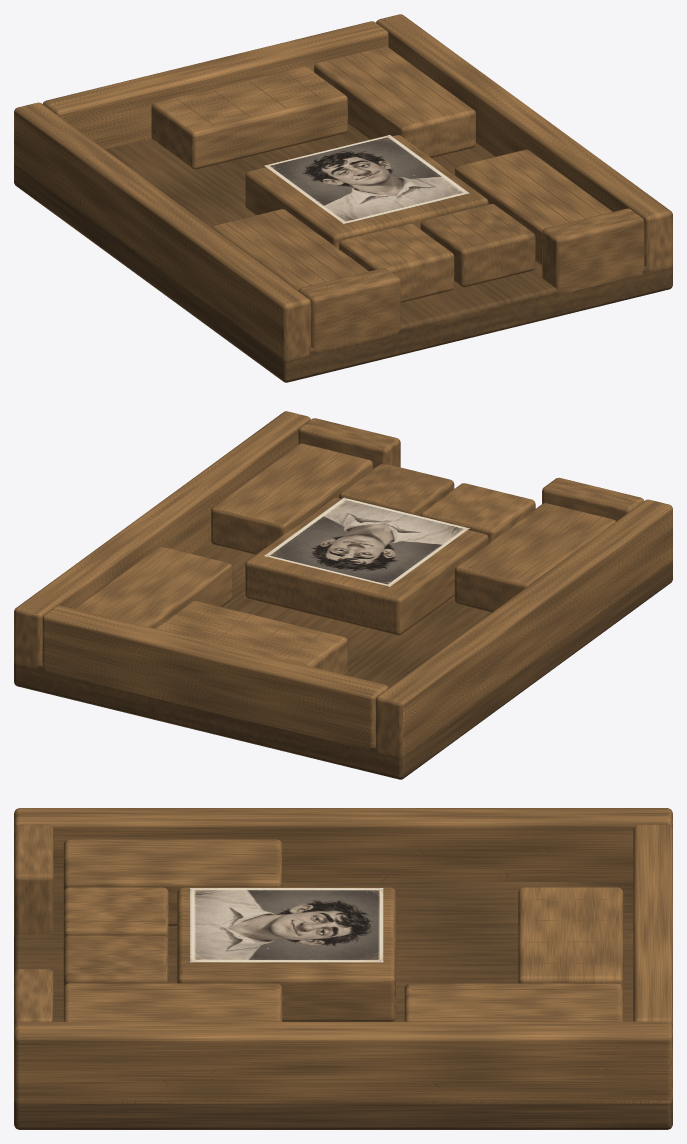
The model's file is photo-puzzle-seven-plain-photo-r34.glb.
3 views of the same model, one above another, from view 1: azimuth 30°, elevation 25°; view 2: azimuth 150°, elevation 25°; view 3: azimuth 270°, elevation 25° (orthographic). The views are drawn at different scales.
Visible parts, largest first — view 1: tray, frame_left, frame_right, yellow5_wood, frame_top, yellow2_wood, earned_photo_face, yellow4_wood, exit_edge.001, red4_wood, yellow3_wood, exit_edge (+2 smaller); view 2: tray, frame_top, frame_left, frame_right, blue_wood, earned_photo_face, yellow4_wood, yellow3_wood, yellow2_wood, yellow5_wood, red3_wood, red4_wood (+2 smaller); view 3: frame_right, tray, frame_left, earned_photo_face, blue_wood, yellow3_wood, yellow5_wood, yellow2_wood, yellow4_wood, frame_top, red3_wood, red4_wood (+2 smaller).
Part boxes in pixels (x1,y1,x2,y2): tray: [14, 124, 672, 382]; frame_left: [14, 102, 311, 360]; frame_right: [376, 14, 672, 271]; yellow5_wood: [151, 66, 347, 169]; frame_top: [43, 21, 388, 149]; yellow2_wood: [314, 46, 475, 157]; earned_photo_face: [264, 135, 469, 223]; yellow4_wood: [454, 149, 612, 265]; exit_edge.001: [542, 208, 644, 293]; red4_wood: [420, 204, 535, 287]; yellow3_wood: [211, 209, 368, 291]; exit_edge: [298, 268, 400, 353]; tray: [14, 539, 672, 779]; frame_top: [42, 605, 388, 750]; frame_left: [375, 499, 672, 757]; frame_right: [14, 411, 310, 669]; blue_wood: [245, 497, 488, 635]; earned_photo_face: [264, 497, 469, 586]; yellow4_wood: [211, 443, 372, 554]; yellow3_wood: [454, 503, 615, 612]; yellow2_wood: [74, 546, 232, 628]; yellow5_wood: [155, 601, 347, 674]; red3_wood: [420, 483, 535, 542]; red4_wood: [339, 463, 454, 515]; frame_right: [14, 1021, 672, 1103]; tray: [14, 882, 672, 1129]; frame_left: [14, 808, 672, 881]; earned_photo_face: [190, 888, 383, 962]; blue_wood: [177, 887, 395, 1021]; yellow3_wood: [63, 839, 282, 926]; yellow5_wood: [518, 887, 623, 988]; yellow2_wood: [404, 983, 623, 1021]; yellow4_wood: [63, 983, 282, 1021]; frame_top: [633, 824, 672, 1026]; red3_wood: [63, 887, 168, 940]; red4_wood: [63, 935, 168, 988].
Size of what is drawn, in the model's own units: 0.192 by 0.037 by 0.232.
3 materials, 3 textured.
